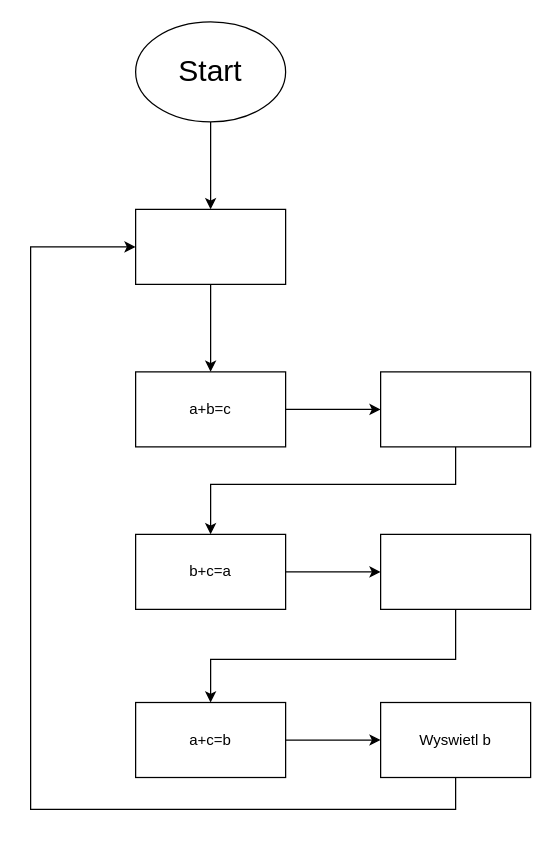
The diagram is 553 pixels wide and 841 high, and some of its shapes have lost their labels. The box of each missing label's shape, as (x1, y1, x2, y2) in pixels:
podaj a podaj b: (134, 208, 286, 284)
Wyswietl a: (379, 533, 531, 609)
Wyswietl C: (379, 371, 531, 447)
